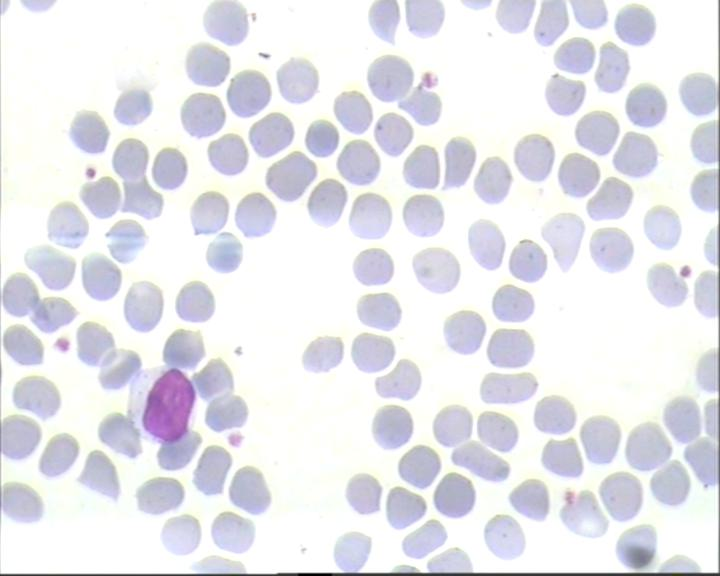lymp: (122, 358, 206, 447)
